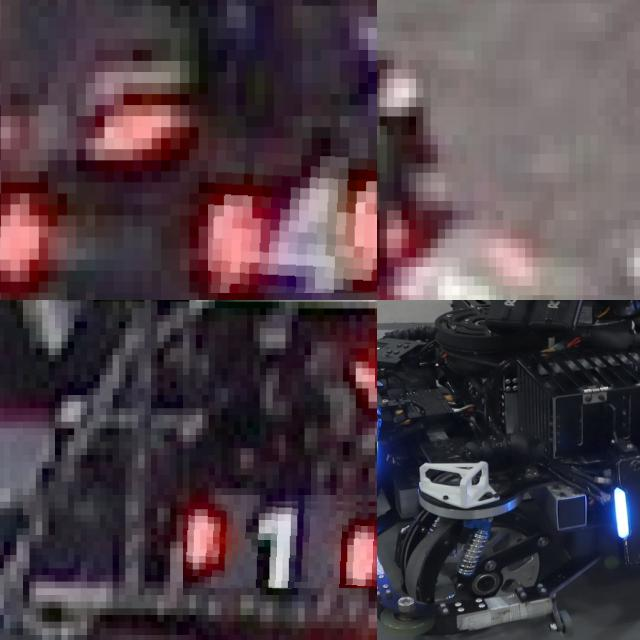Bs: (609, 454, 640, 555)
R1: (182, 494, 377, 588)
R4: (208, 138, 377, 292)
